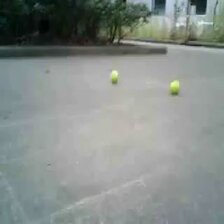tennis: (169, 79, 180, 93), (110, 69, 119, 82)
